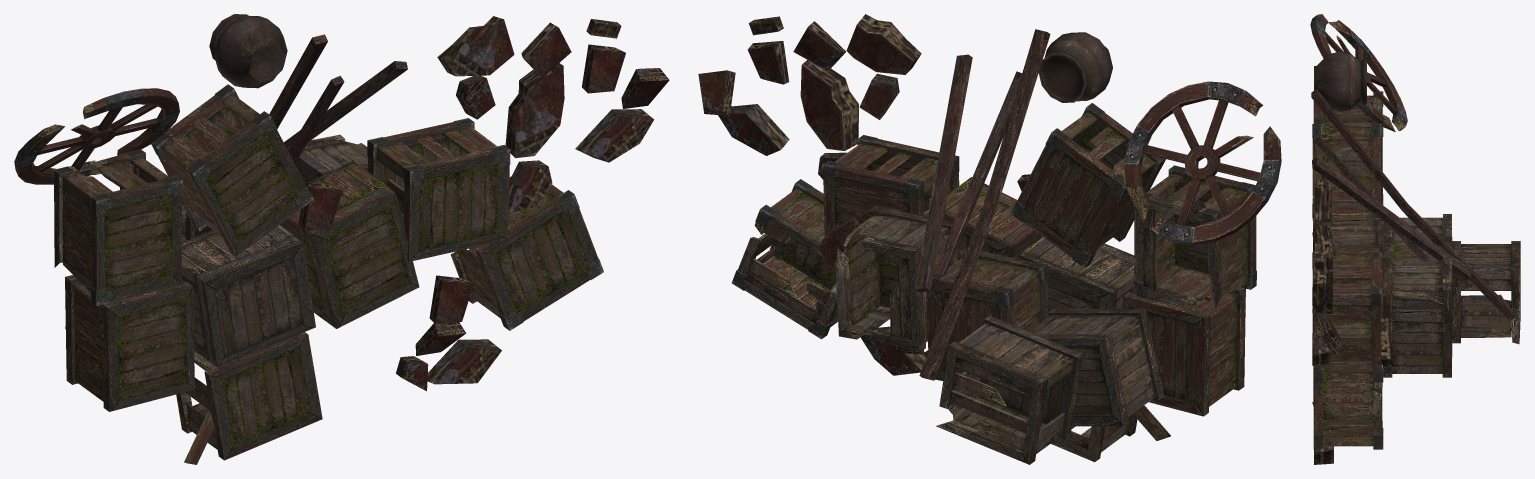
Rendered from xiangzi.FBX.
3 renders of one model, left to right at view 1: azimuth 30°, elevation 25°; view 2: azimuth 150°, elevation 25°; view 3: azimuth 270°, elevation 25°, orthographic. The views are drawn at different scales.
Visible parts, largest first — view 1: Mesh_0521; view 2: Mesh_0521; view 3: Mesh_0521.
Boxes of the visible parts, x1=… form: Mesh_0521: x1=14, y1=14, x2=669, y2=464; Mesh_0521: x1=698, y1=14, x2=1281, y2=464; Mesh_0521: x1=1310, y1=14, x2=1520, y2=464.
Size of the model in its own units: 6.3 by 4.04 by 2.27.
Materials: 1 (1 with a texture image).
